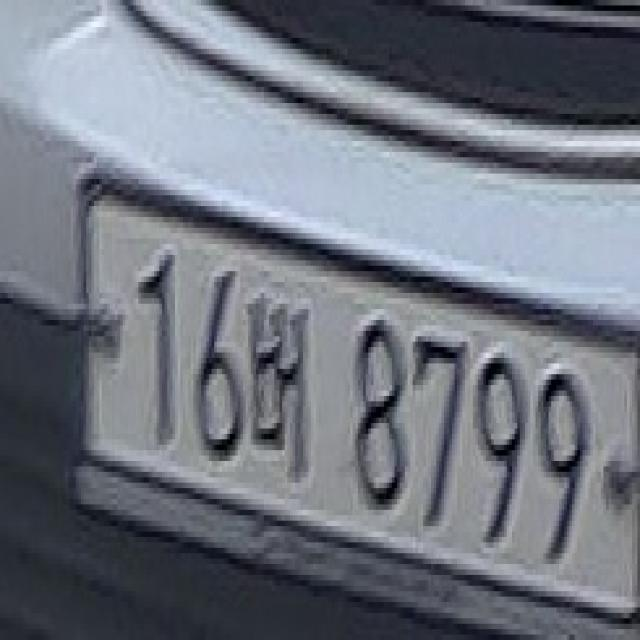1: (130, 238, 182, 456)
6: (188, 255, 246, 477)
7: (410, 320, 465, 548)
8: (348, 309, 410, 526)
9: (528, 352, 593, 575), (468, 336, 525, 564)
beo: (246, 277, 314, 499)
license_plate: (70, 162, 640, 634)
